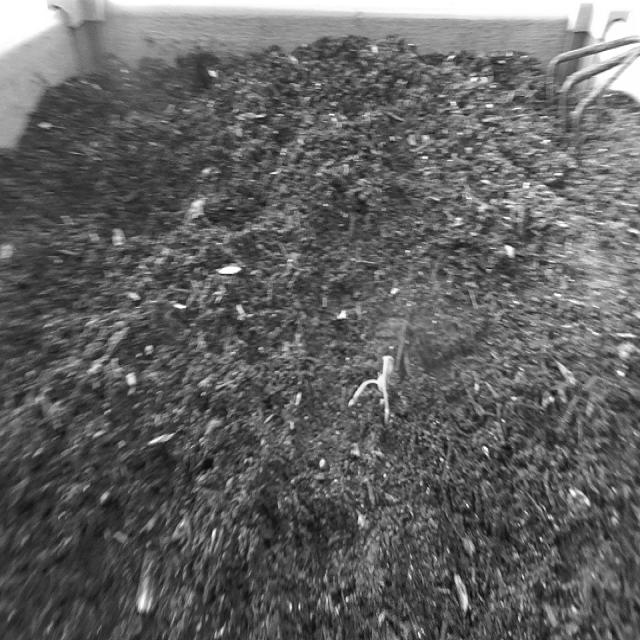Healthy: (342, 327, 409, 446)
